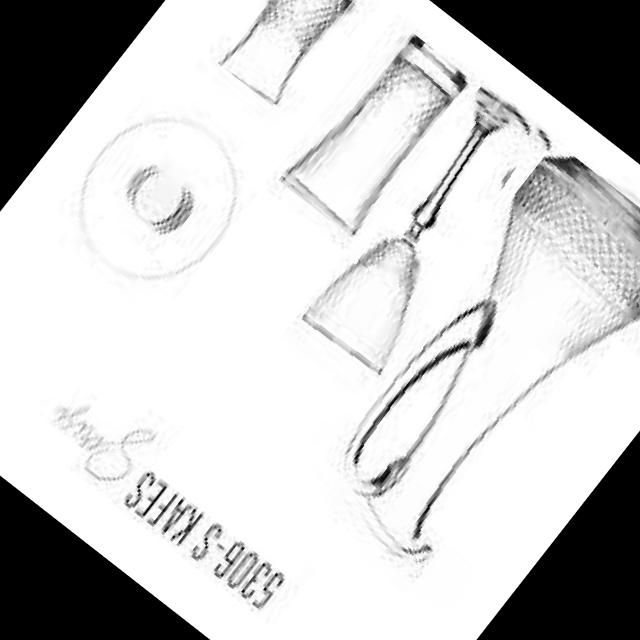Glass: (290, 140, 640, 606), (299, 80, 564, 378), (276, 22, 476, 240), (214, 0, 363, 108)
